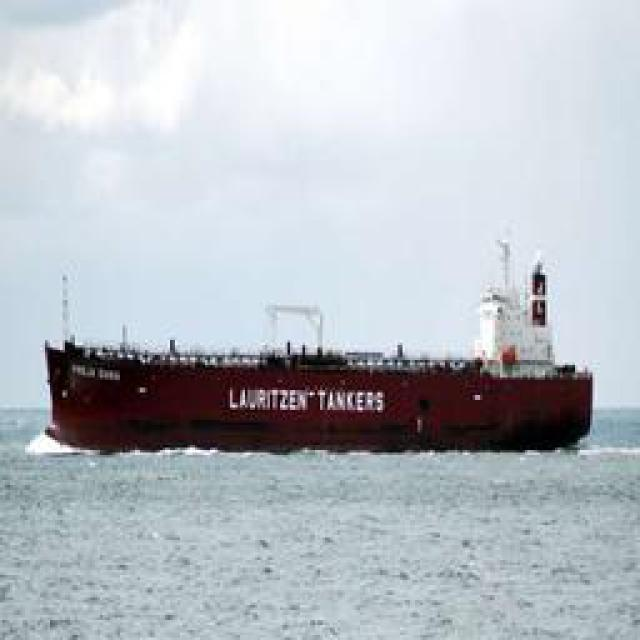Ship: (31, 241, 609, 459)
